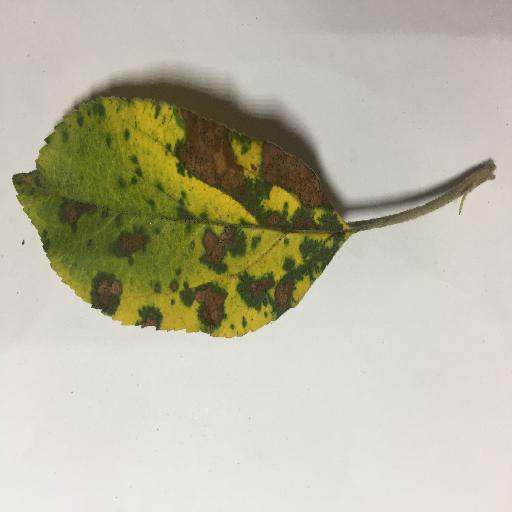Brown_Spot: (164, 107, 323, 205), (246, 275, 291, 311), (206, 227, 241, 268), (196, 284, 227, 326), (92, 276, 119, 312), (57, 204, 94, 229), (263, 212, 314, 226), (110, 232, 145, 251), (143, 308, 158, 326)
